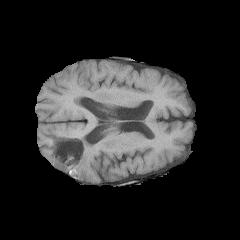glioma: (53, 136, 96, 179)
